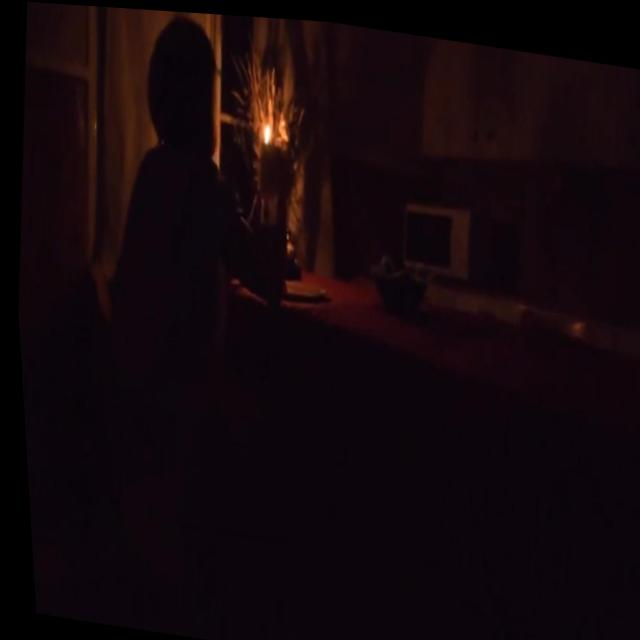fire: (256, 113, 274, 145)
